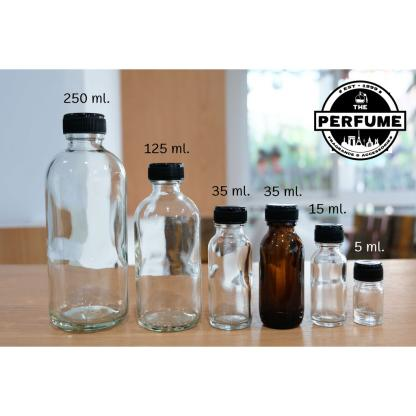Can: (44, 112, 128, 334), (135, 164, 202, 332), (209, 206, 254, 330), (261, 202, 304, 331), (309, 224, 349, 329), (352, 260, 386, 327)
